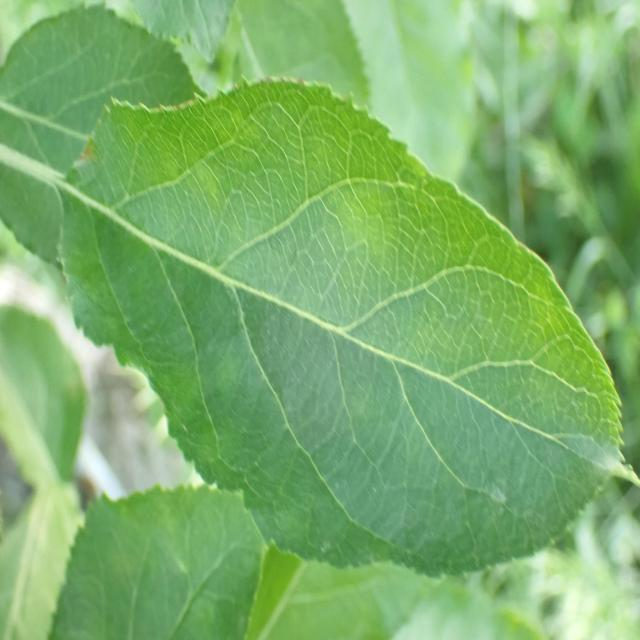scab: (79, 84, 616, 567)
